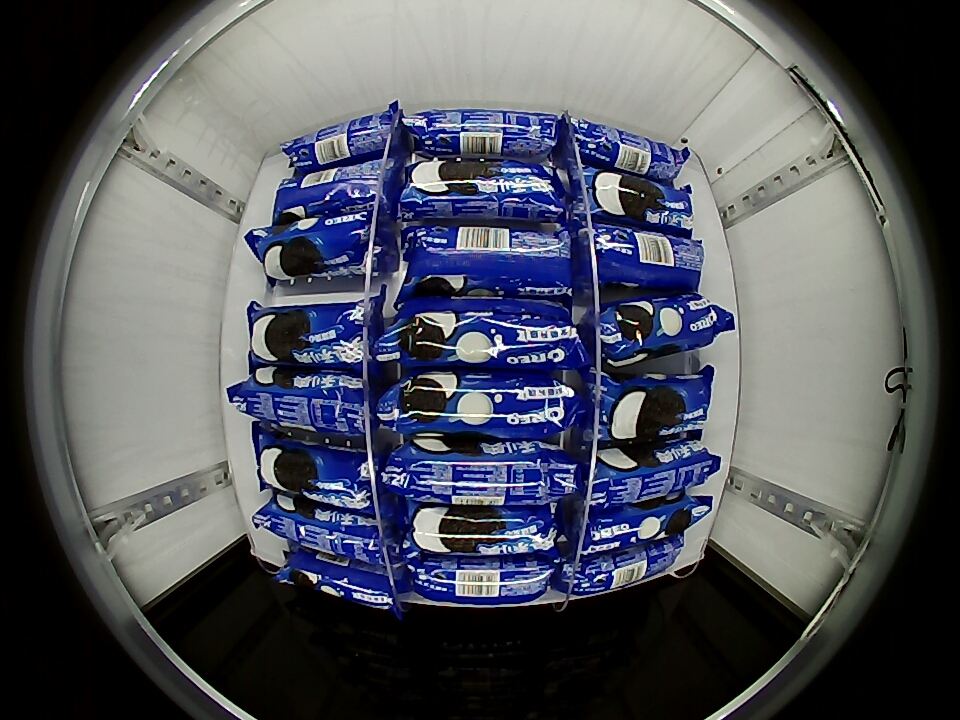aoliao: (384, 295, 588, 373), (385, 370, 583, 441), (398, 222, 573, 298), (382, 439, 574, 507), (399, 156, 568, 225), (591, 292, 732, 365), (253, 433, 375, 511), (246, 297, 376, 370), (242, 367, 369, 440), (591, 371, 714, 445), (256, 497, 384, 566), (403, 550, 560, 606), (400, 106, 563, 159), (582, 220, 705, 290), (275, 548, 400, 616), (251, 221, 384, 284), (406, 504, 562, 556), (564, 113, 679, 182), (585, 448, 710, 510), (576, 167, 694, 231), (579, 499, 710, 555), (276, 159, 387, 222), (296, 107, 399, 170), (569, 540, 679, 598)
